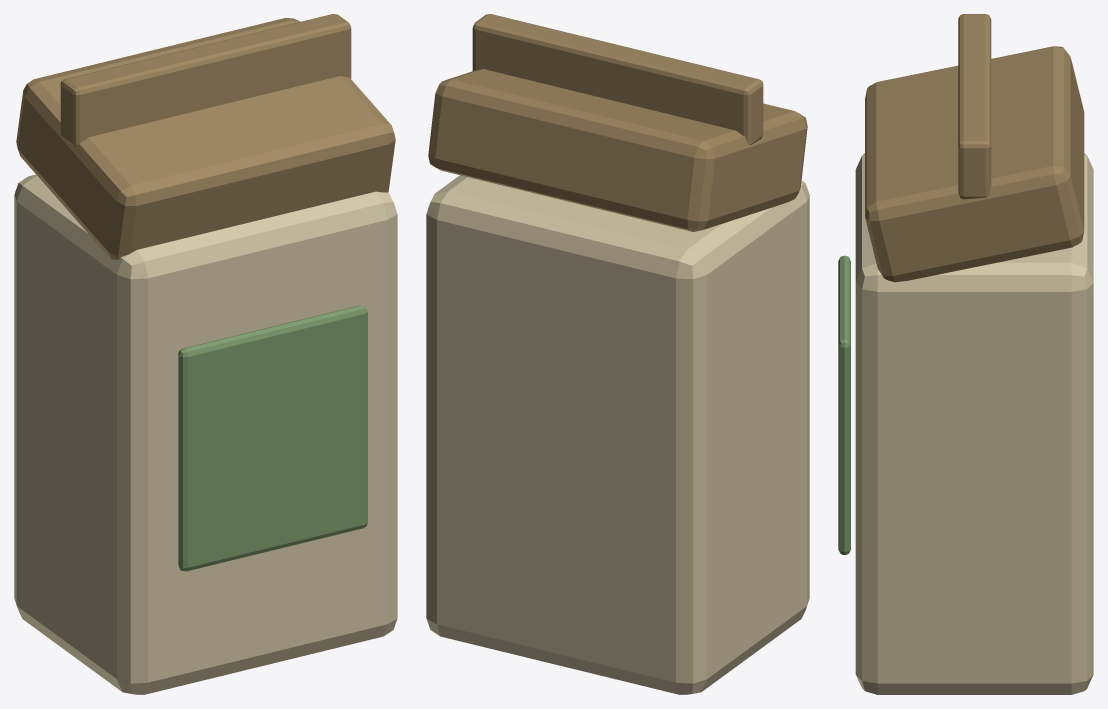
File: Carton_Drink.glb
3 views of the same model, side by side, from view 1: azimuth 30°, elevation 25°; view 2: azimuth 150°, elevation 25°; view 3: azimuth 270°, elevation 25° (orthographic). The views are drawn at different scales.
Visible parts, largest first — view 1: Litter; view 2: Litter; view 3: Litter.
Part boxes in pixels (bbox=[...]): Litter: bbox=[14, 14, 397, 694]; Litter: bbox=[426, 14, 809, 694]; Litter: bbox=[838, 14, 1093, 694].
Size of the model in its own units: 0.17 by 0.3375 by 0.1395.
